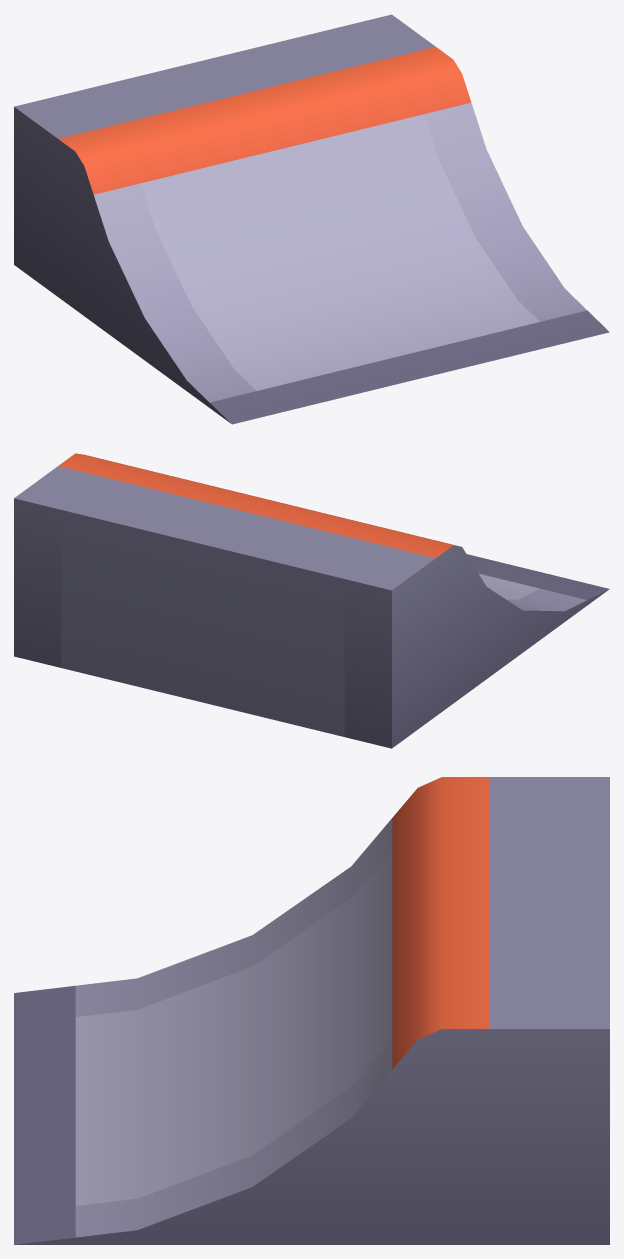
The model's file is bowl-side-low.fbx.
3 views of the same model, one above another, from view 1: azimuth 30°, elevation 25°; view 2: azimuth 150°, elevation 25°; view 3: azimuth 270°, elevation 25° (orthographic). The views are drawn at different scales.
Parts seen in each view (by area): view 1: bowl-side-low; view 2: bowl-side-low; view 3: bowl-side-low.
Boxes of the visible parts, x1,y1,x2,y2 form: bowl-side-low: [14, 14, 609, 424]; bowl-side-low: [14, 453, 609, 748]; bowl-side-low: [14, 777, 609, 1244].
Size of the model in its own units: 100 by 40 by 100.
1 material, 1 textured.
